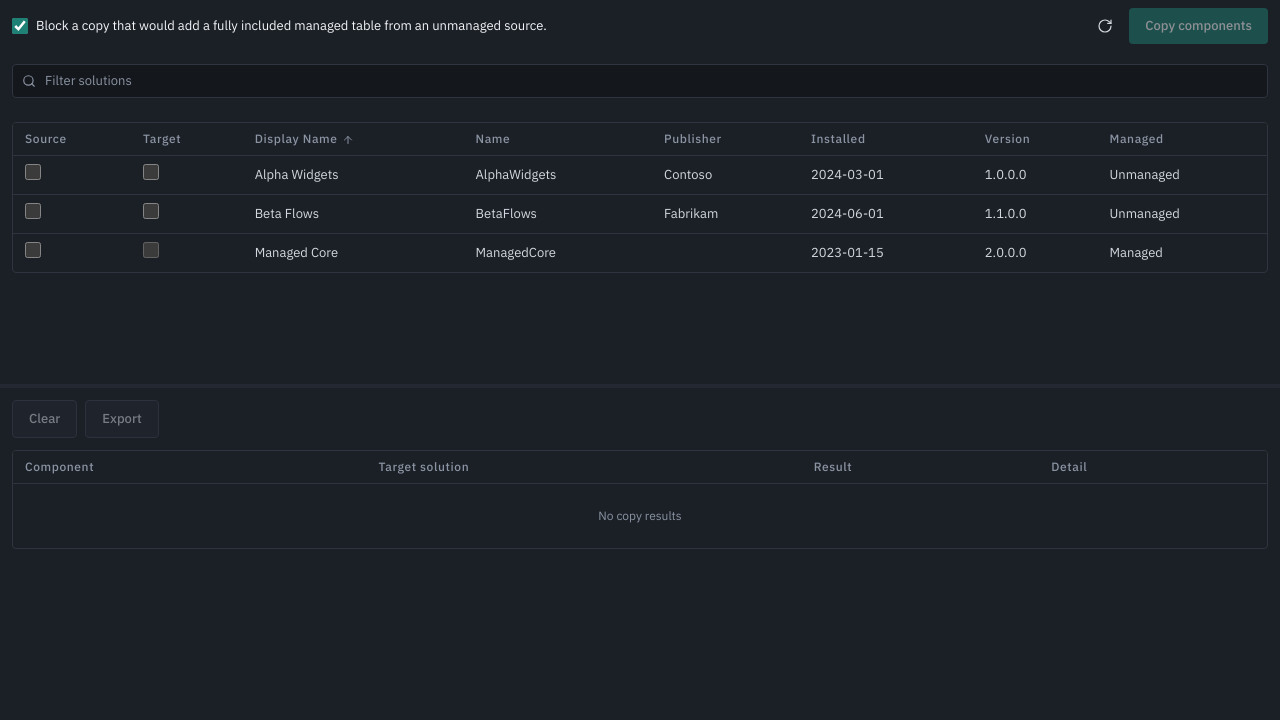
Test: Solution Components Mover › shows managed sources, blocks managed targets, and filters the list
expect the text "Alpha Widgets" is shown: met, box [243, 156, 464, 194]
expect the text "Managed Core" is shown: met, box [243, 234, 464, 272]
Click the 5th checkbox named "Source Managed Core". click: (33, 250)
box: [25, 242, 41, 258]
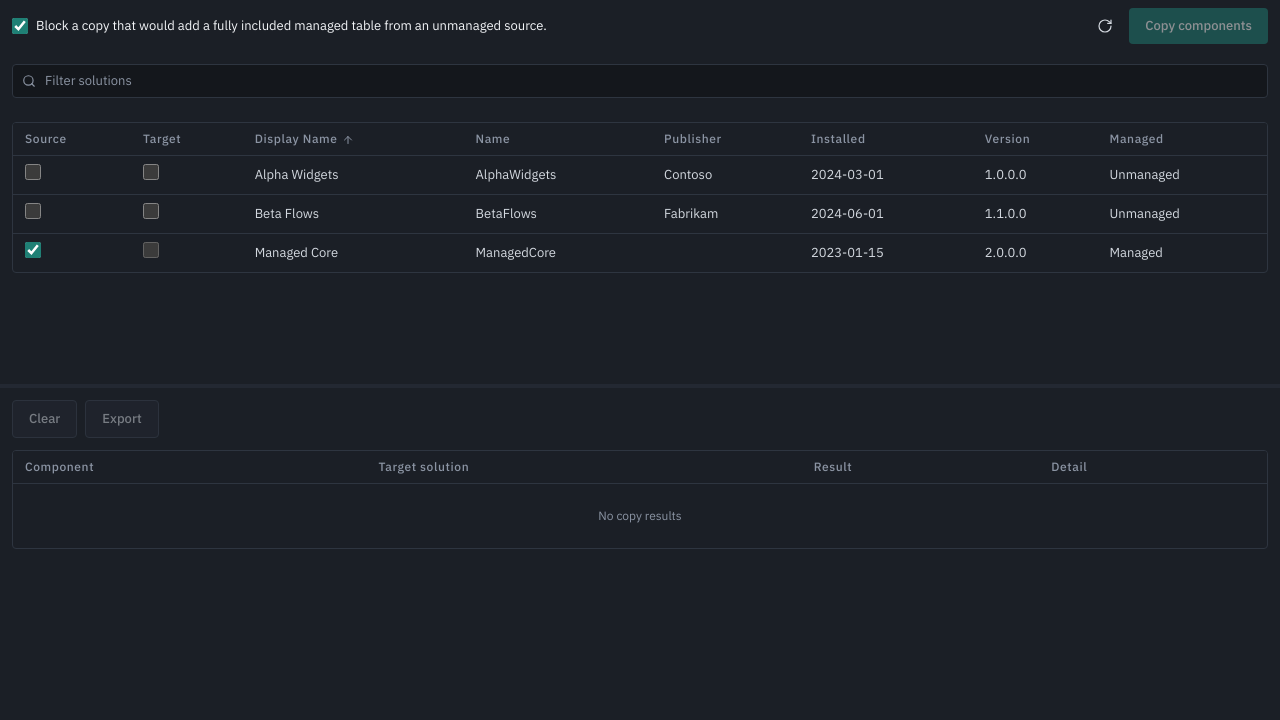
expect the 6th checkbox named "A managed solution cannot be a target" is not checked: met, box [143, 242, 159, 258]
expect the 5th checkbox named "Source Managed Core" is checked: met, box [25, 242, 41, 258]
Type "unmanaged" into the field with placeholder "Filter solutions". click: (640, 81)
box: [12, 64, 1268, 98]
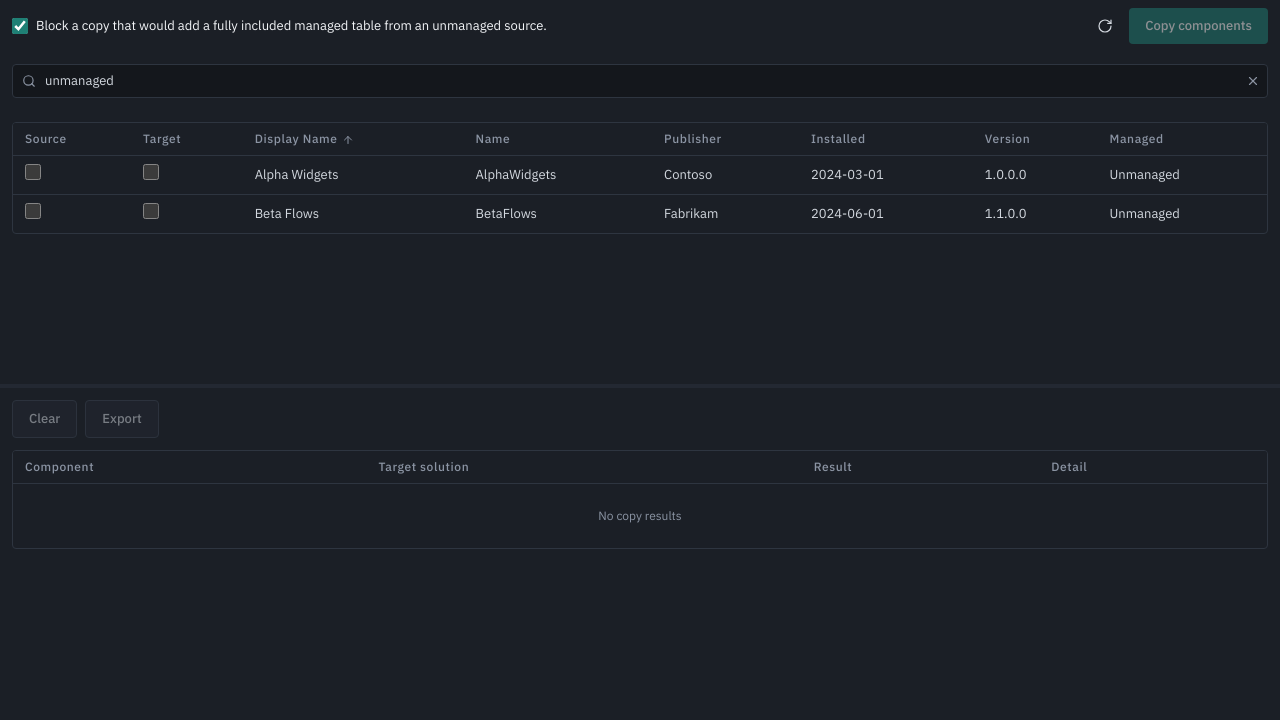
expect the text "Alpha Widgets" is shown: met, box [243, 156, 464, 194]
expect the text "Managed Core" is gone: met
Replace the text in the field with placeholder "Filter solutions" with "fabrikam". click: (640, 81)
box: [12, 64, 1268, 98]
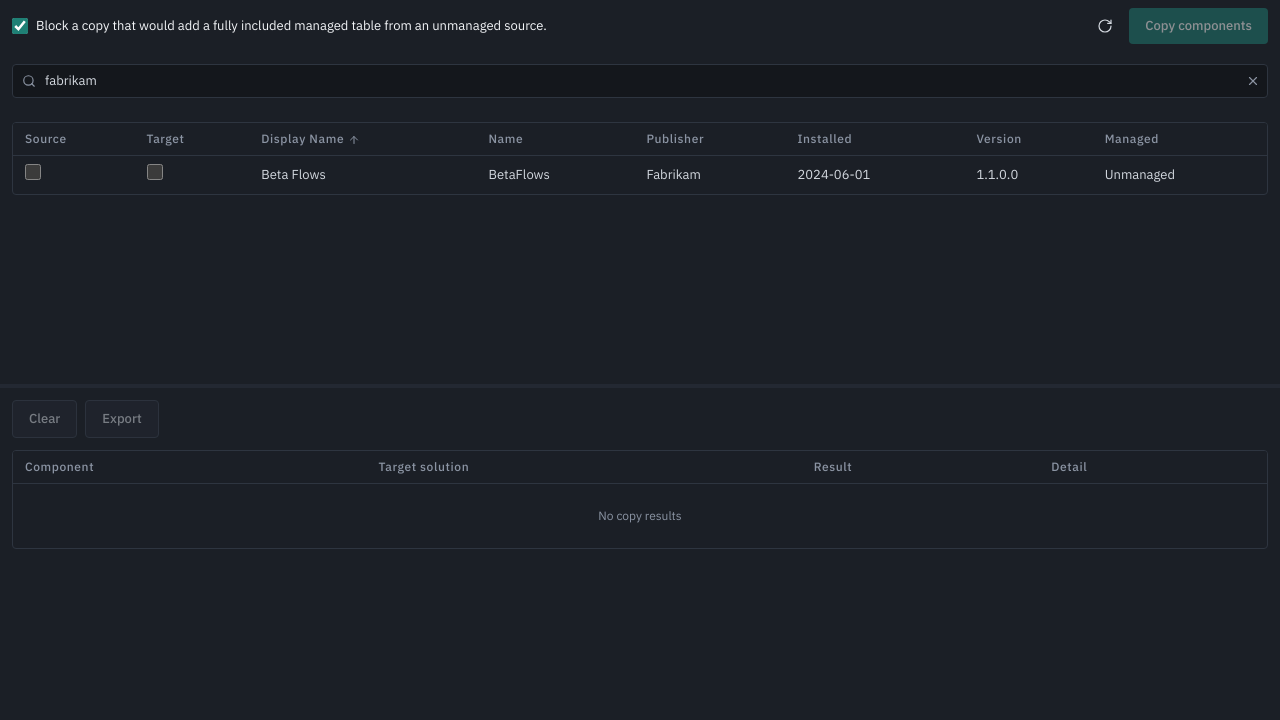
expect the text "Beta Flows" is shown: met, box [249, 156, 476, 194]
expect the text "Alpha Widgets" is gone: met
Replace the text in the field with placeholder "Filter solutions" with "missing". click: (640, 81)
box: [12, 64, 1268, 98]
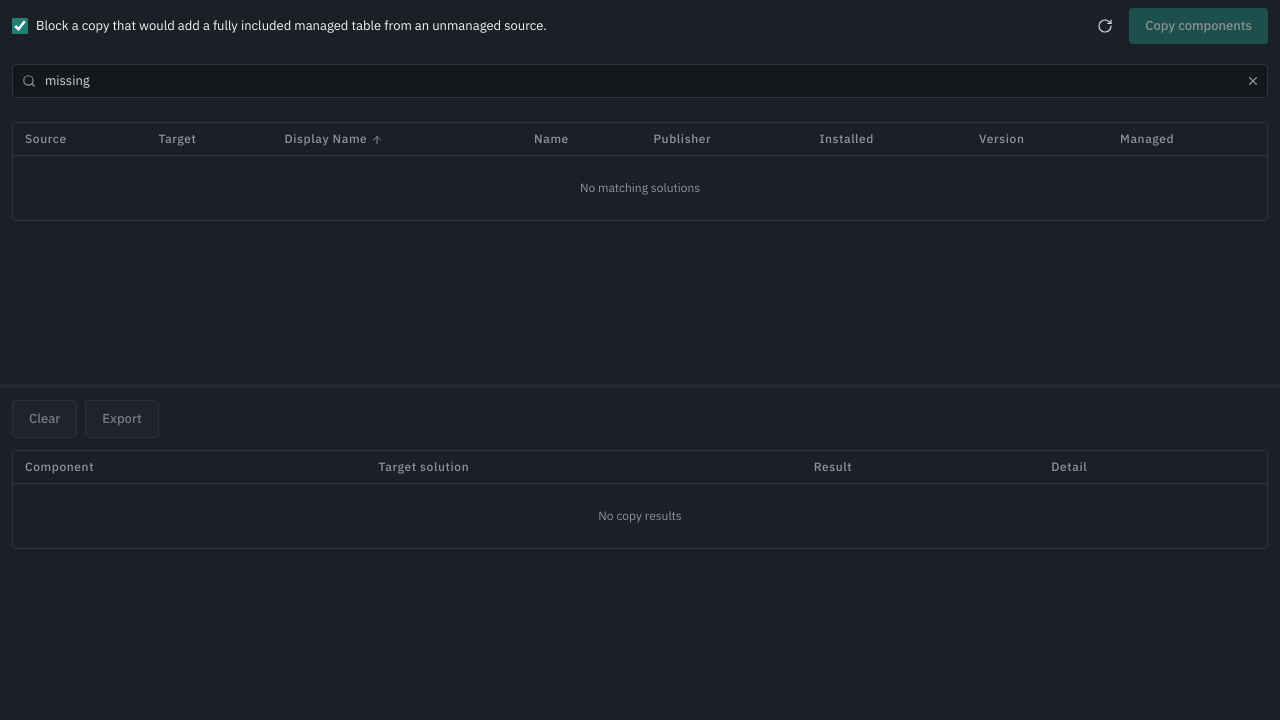
expect the text "No matching solutions" is shown: met, box [13, 156, 1267, 220]
